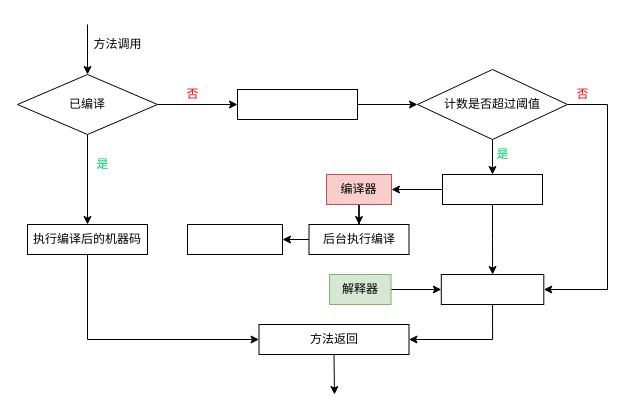
Some shapes in this 633 by 420 pixel diagram are drawn without their labels. Here are the shapes that lost their labels. From the top down, the centre of each, then its label:
At (297,104): "方法调用计数器加 1".
At (492,189): "提交编译请求".
At (234,239): "Code Cache".
At (492,289): "解释方式执行".
